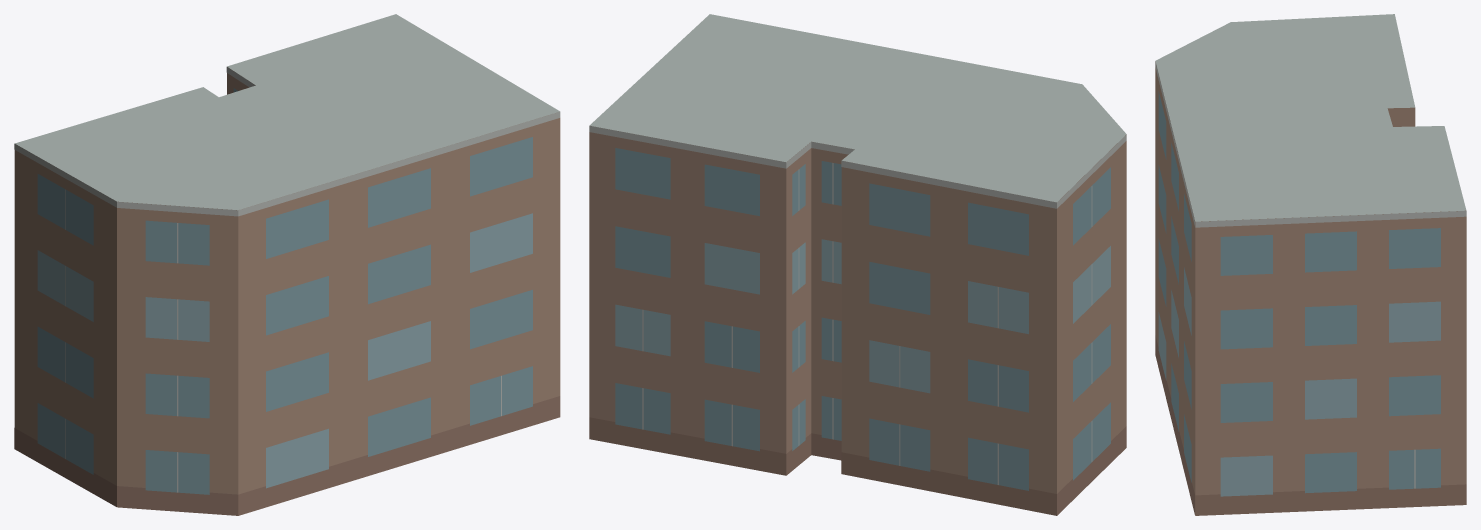
File: survey-upis-32894110.glb
3 views of the same model, side by side, from view 1: azimuth 30°, elevation 25°; view 2: azimuth 150°, elevation 25°; view 3: azimuth 270°, elevation 25° (orthographic). The views are drawn at different scales.
Parts seen in each view (by area): view 1: survey-upis-32894110.tmp; view 2: survey-upis-32894110.tmp; view 3: survey-upis-32894110.tmp.
Boxes of the visible parts, <box> form: survey-upis-32894110.tmp: <box>14,14,560,515</box>; survey-upis-32894110.tmp: <box>589,14,1126,515</box>; survey-upis-32894110.tmp: <box>1155,14,1466,515</box>.
Bounding box in the file's own units: 18.1 × 11.95 × 11.46.
